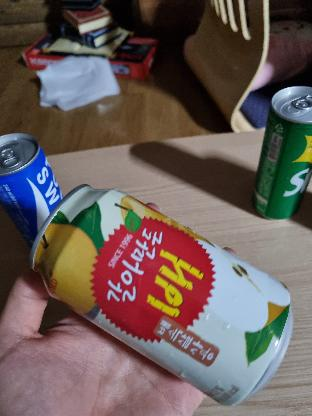Can: (36, 188, 296, 380)
